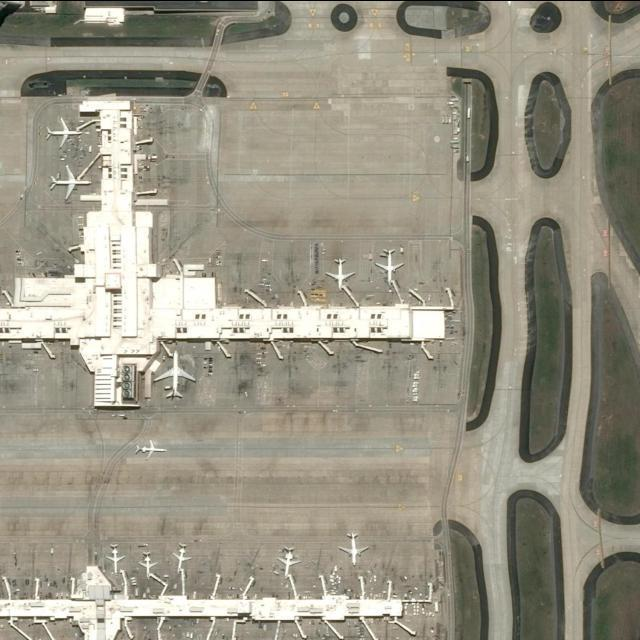Aircraft: (152, 350, 197, 400), (46, 163, 92, 201), (41, 114, 87, 148), (373, 246, 407, 285), (337, 530, 369, 566), (274, 543, 302, 582), (325, 257, 355, 291), (133, 546, 158, 580), (102, 541, 126, 575), (170, 541, 194, 575), (134, 438, 166, 460)
